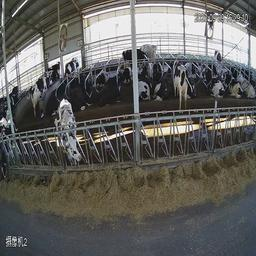cow: (57, 97, 80, 177), (97, 69, 129, 110), (26, 74, 53, 121), (170, 54, 189, 115), (151, 66, 174, 112), (200, 67, 227, 102), (70, 77, 93, 110), (137, 60, 153, 106), (120, 42, 149, 67), (221, 68, 242, 99), (237, 68, 255, 99), (187, 56, 202, 81), (63, 54, 79, 77), (209, 46, 224, 65)
